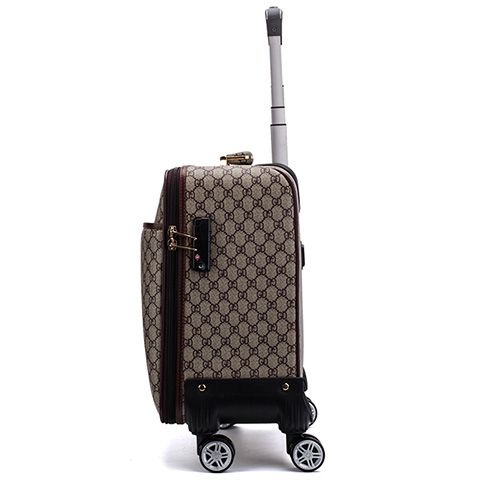box: (140, 165, 305, 424)
lock: (169, 218, 209, 271)
wheel: (286, 434, 325, 473), (197, 434, 235, 473)
